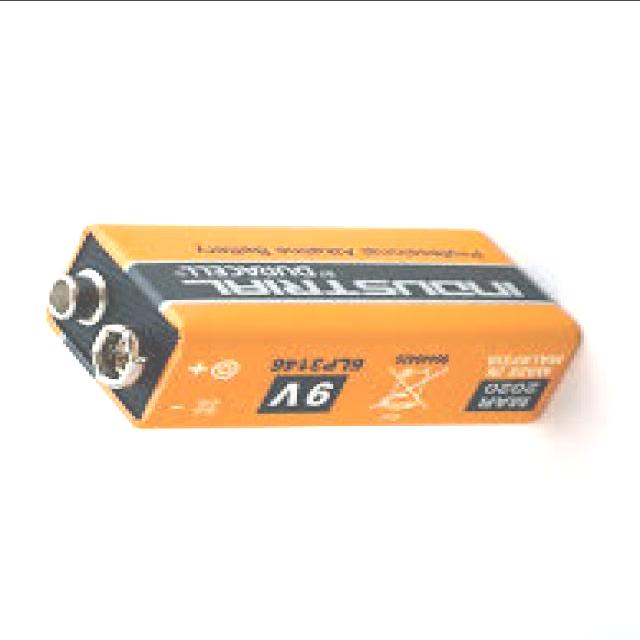9V: (46, 225, 584, 425)
